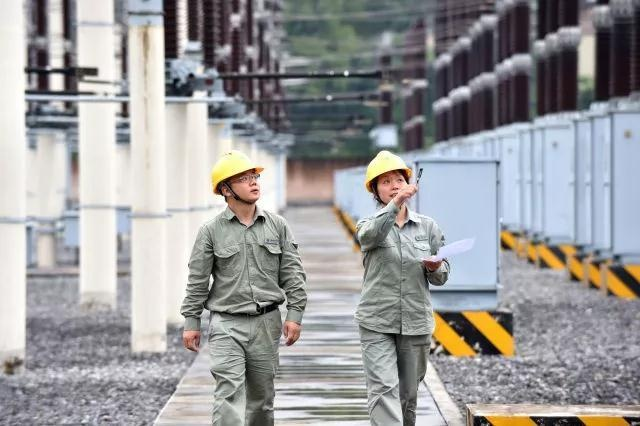yellow: (207, 147, 265, 204), (363, 148, 412, 207)
